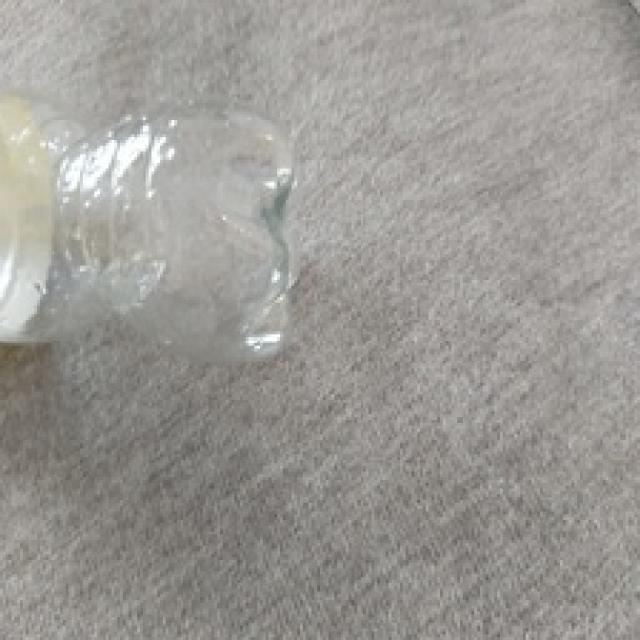Plastic: (0, 86, 297, 364)
